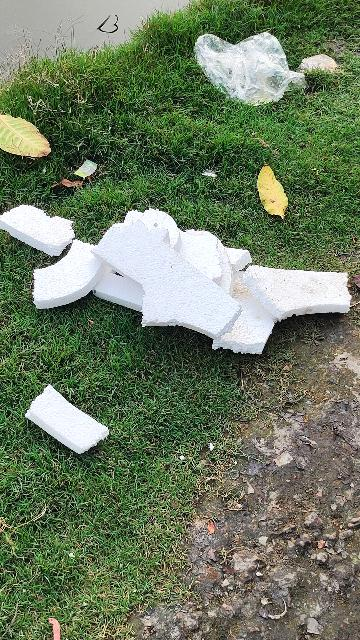cocksheet: (49, 208, 311, 374), (18, 374, 115, 467)
